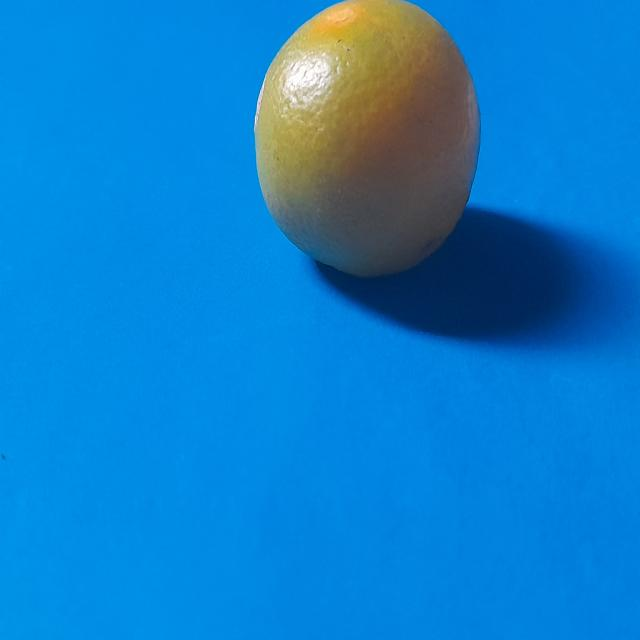greening: (252, 0, 483, 279)
